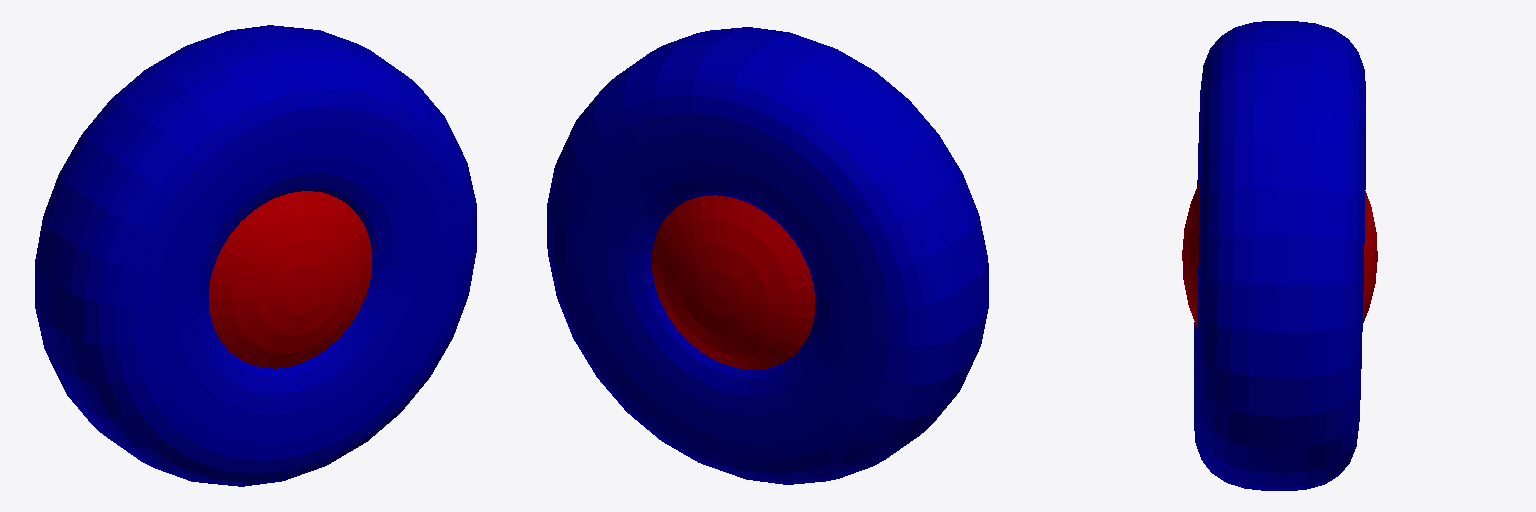
3 views of the same model, side by side, from view 1: azimuth 30°, elevation 25°; view 2: azimuth 150°, elevation 25°; view 3: azimuth 270°, elevation 25° (orthographic).
Visible parts, largest first — view 1: police; view 2: police; view 3: police.
Boxes of the visible parts, <box> form: police: <box>35,25,476,486</box>; police: <box>547,27,988,484</box>; police: <box>1182,21,1377,490</box>.
Size of the model in its own units: 24.68 by 24.82 by 10.31.
Materials: 1 (1 with a texture image).